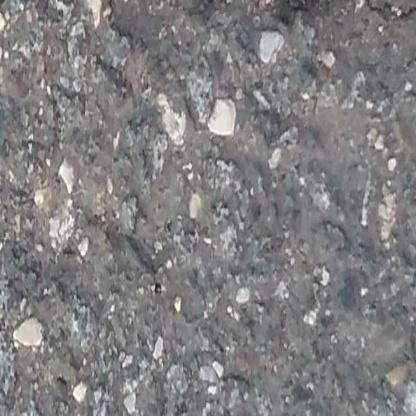Cracks: (193, 0, 416, 37)
